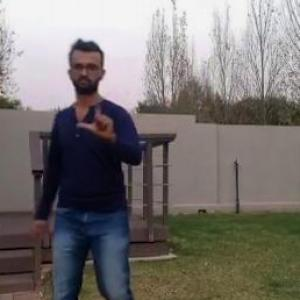land_hand: (75, 93, 122, 142)
